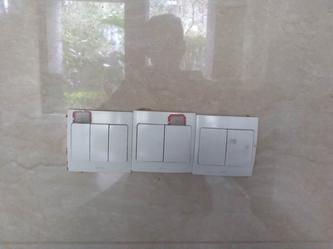switch: (138, 121, 165, 161), (226, 129, 253, 168), (200, 126, 225, 165), (166, 123, 189, 163), (70, 121, 90, 160), (89, 123, 108, 161), (110, 124, 127, 161)
